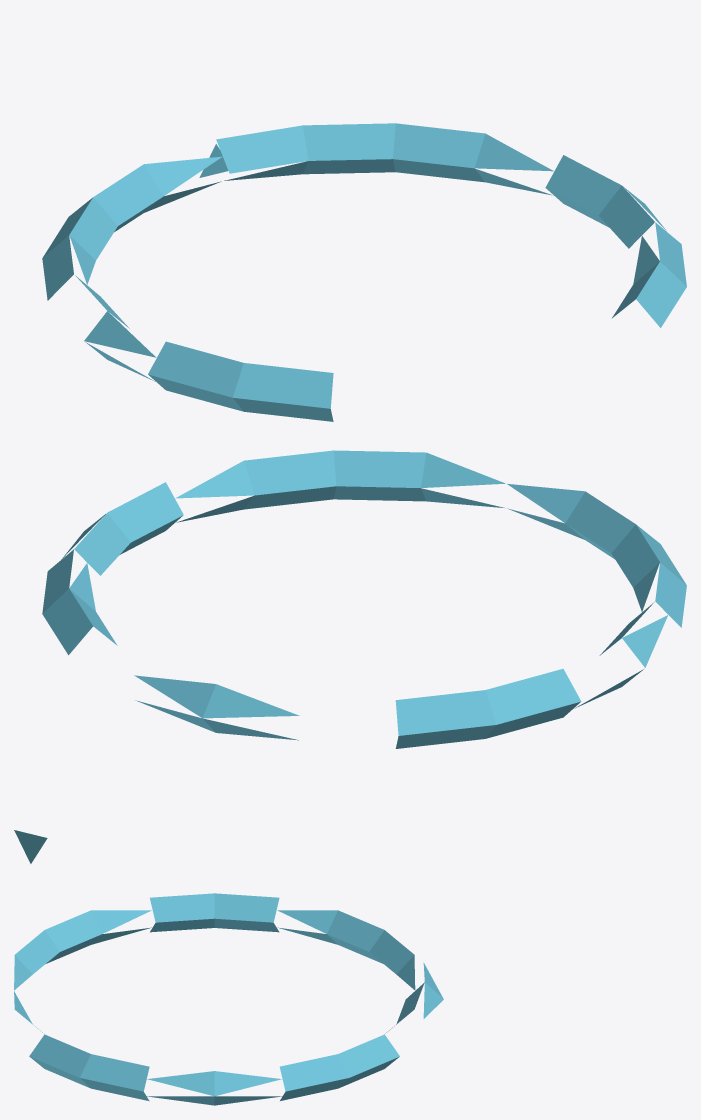
Rendered from blade-ring.lod.glb.
3 views of the same model, one above another, from view 1: azimuth 30°, elevation 25°; view 2: azimuth 150°, elevation 25°; view 3: azimuth 270°, elevation 25° (orthographic). The views are drawn at different scales.
Parts seen in each view (by area): view 1: m; view 2: m; view 3: m.
Boxes of the visible parts, x1,y1,x2,y2 form: m: [42, 123, 686, 421]; m: [14, 450, 686, 863]; m: [14, 893, 443, 1105].
Bounding box in the file's own units: 0.0784 × 0.00653 × 0.1151.
